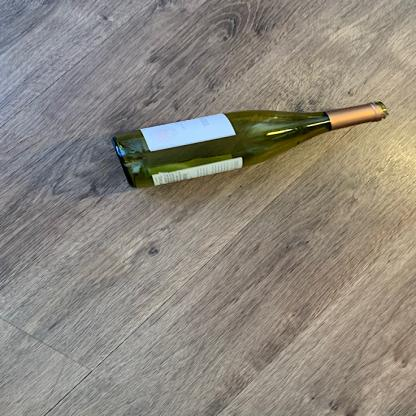trash: (110, 100, 391, 192)
